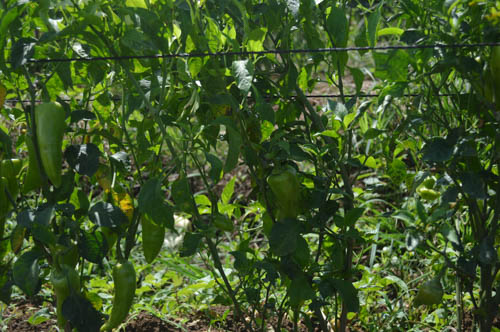ChiliPepper: (34, 101, 65, 183), (106, 264, 139, 332), (265, 170, 298, 231), (55, 269, 84, 331), (139, 205, 167, 267)
